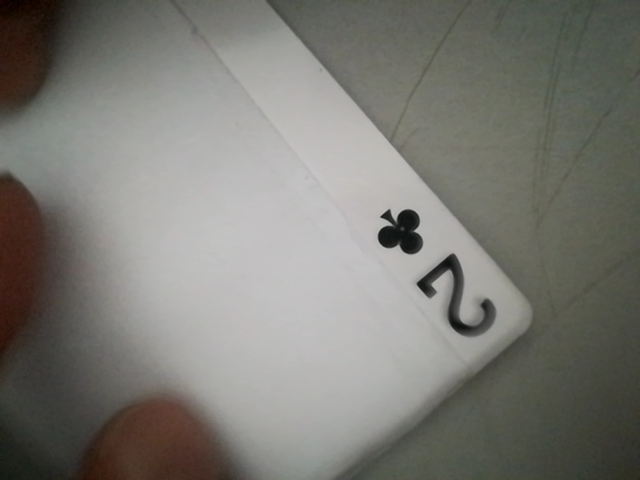mh 2: (356, 197, 507, 356)
